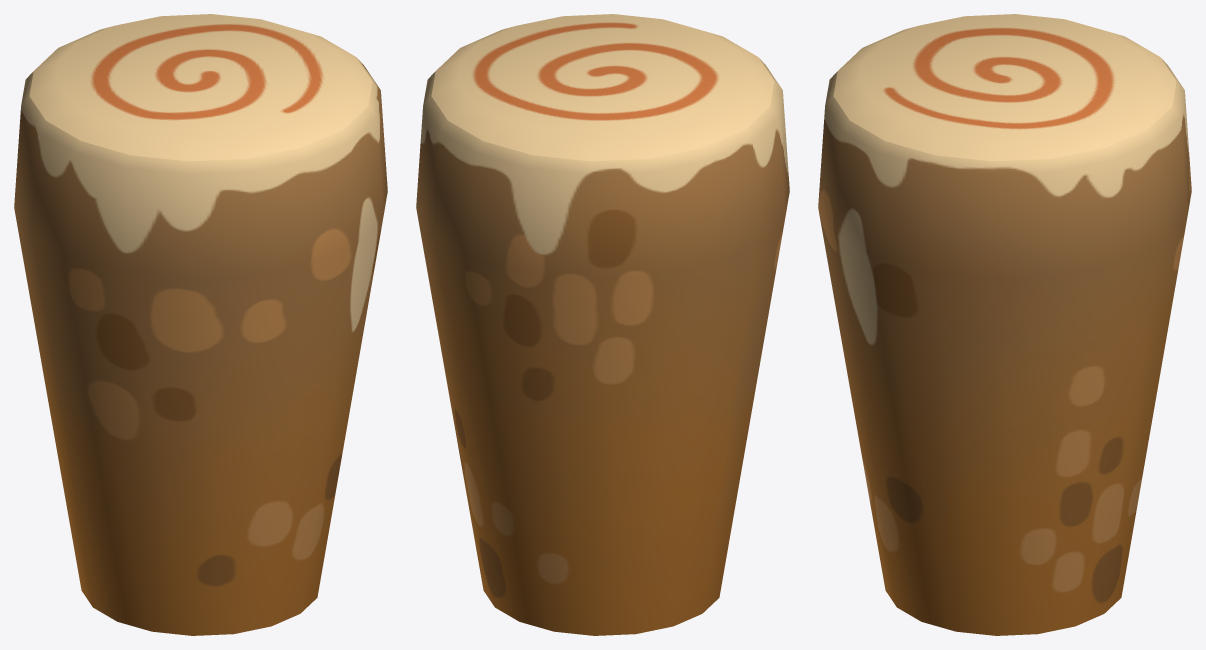
Rendered from Prop_BridgeStick2.fbx.
3 views of the same model, side by side, from view 1: azimuth 30°, elevation 25°; view 2: azimuth 150°, elevation 25°; view 3: azimuth 270°, elevation 25° (orthographic).
Visible parts, largest first — view 1: BridgeStick2; view 2: BridgeStick2; view 3: BridgeStick2.
Boxes of the visible parts, x1,y1,x2,y2 form: BridgeStick2: (14,14,387,635); BridgeStick2: (416,14,789,635); BridgeStick2: (818,14,1191,635).
Size of the model in its own units: 50.99 by 76.52 by 50.85.
